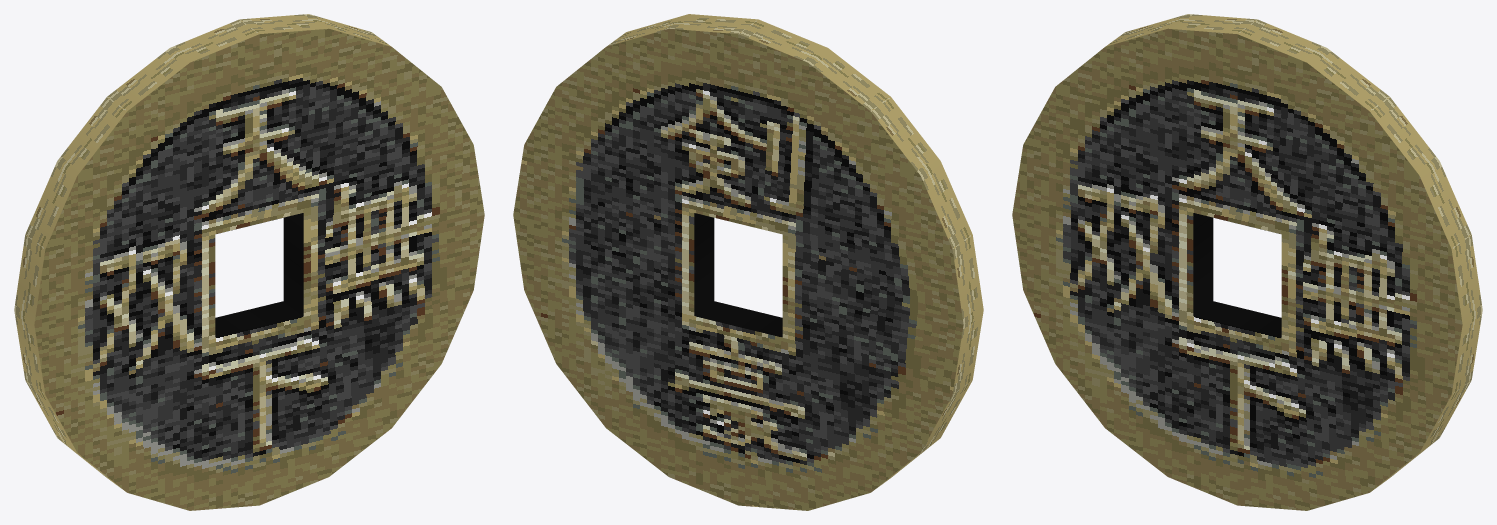
The model's file is ps2_save-icons_kengo3.glb.
3 renders of one model, left to right at view 1: azimuth 30°, elevation 25°; view 2: azimuth 150°, elevation 25°; view 3: azimuth 330°, elevation 25°, orthographic.
Visible parts, largest first — view 1: static.ico; view 2: static.ico; view 3: static.ico.
Boxes of the visible parts, x1,y1,x2,y2 form: static.ico: (14, 14, 484, 510); static.ico: (513, 14, 983, 510); static.ico: (1012, 14, 1482, 510).
Bounding box in the file's own units: 4.58 × 4.58 × 0.355.
Materials: 1 (1 with a texture image).
